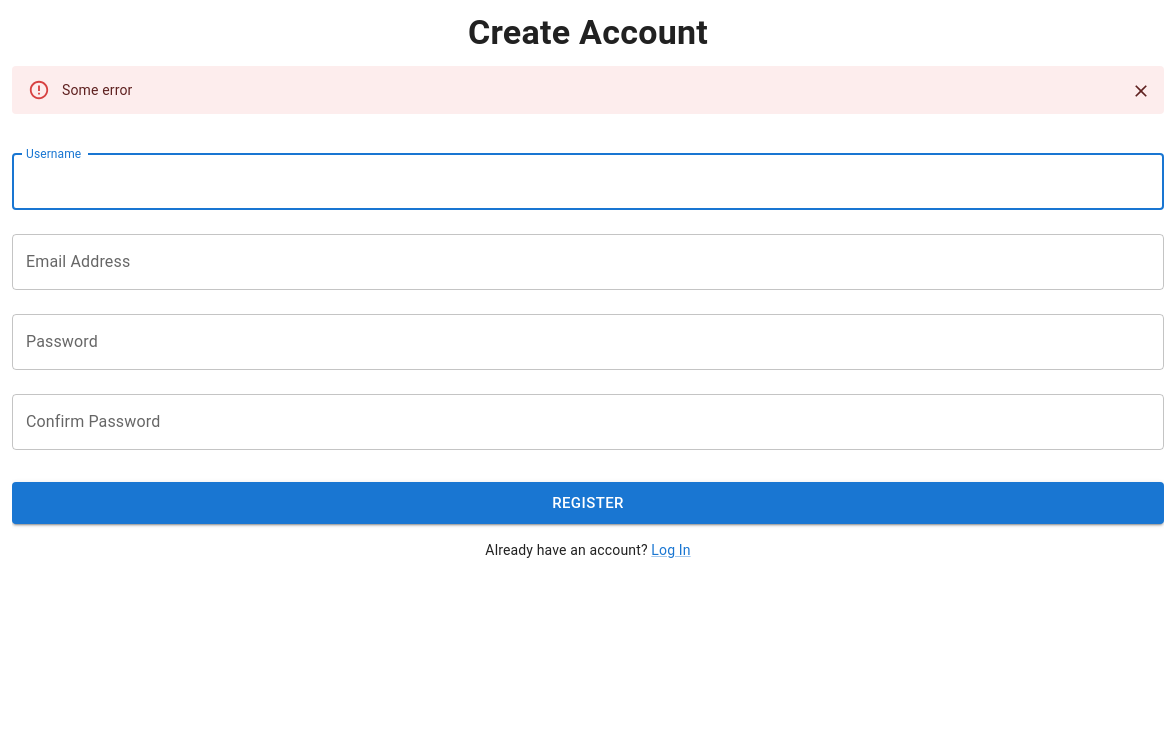
Scenario: RegisterForm › clears error when alert close button is clicked
The image size is (1176, 732).
Expected: the text "Some error" is shown, [62,82,132,98]
Step 1. Click the button named "close" → x=1141, y=91, box [1126,76,1156,106]
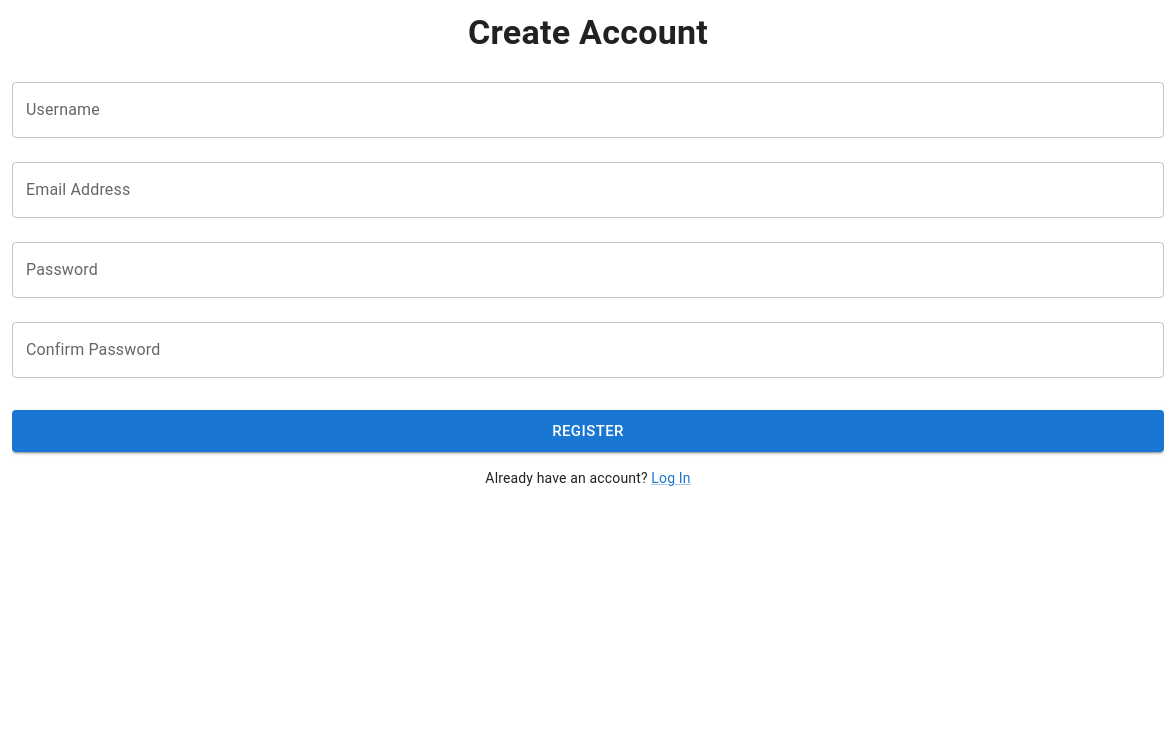
Expected: the text "Some error" is gone
